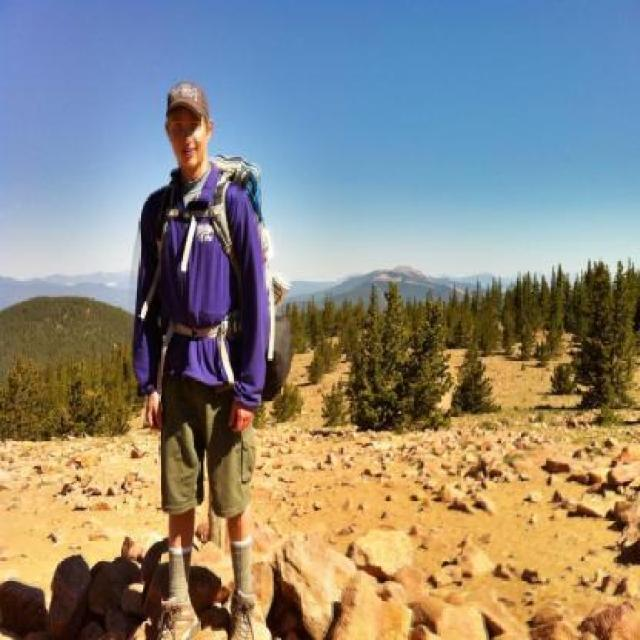backpack: (211, 152, 274, 331), (211, 165, 229, 257), (154, 178, 174, 250)
